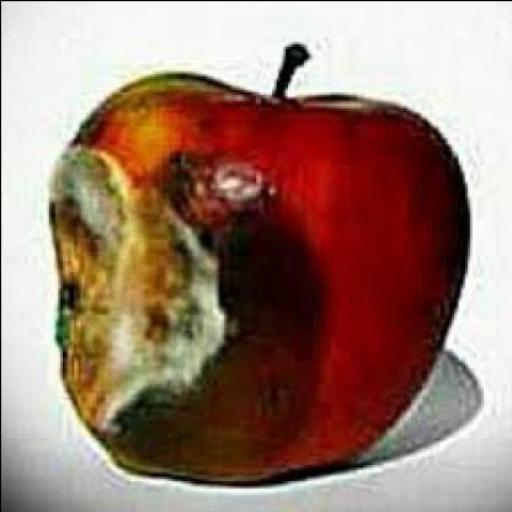biodegradable: (50, 41, 471, 480)
